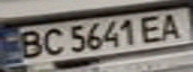1: (115, 16, 142, 46)
4: (103, 18, 124, 48)
5: (66, 21, 87, 54)
6: (84, 20, 106, 52)
A: (154, 11, 187, 40)
B: (12, 28, 45, 61)
C: (39, 25, 66, 57)
E: (136, 12, 169, 44)
